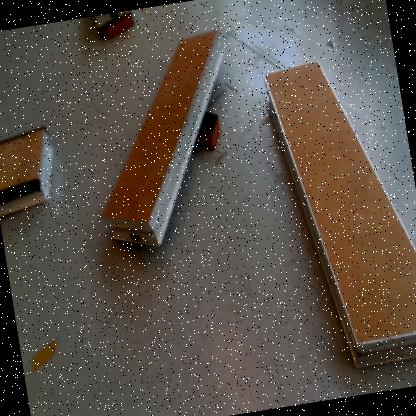Stairs: (263, 54, 416, 369), (99, 26, 227, 254), (1, 126, 54, 221)
